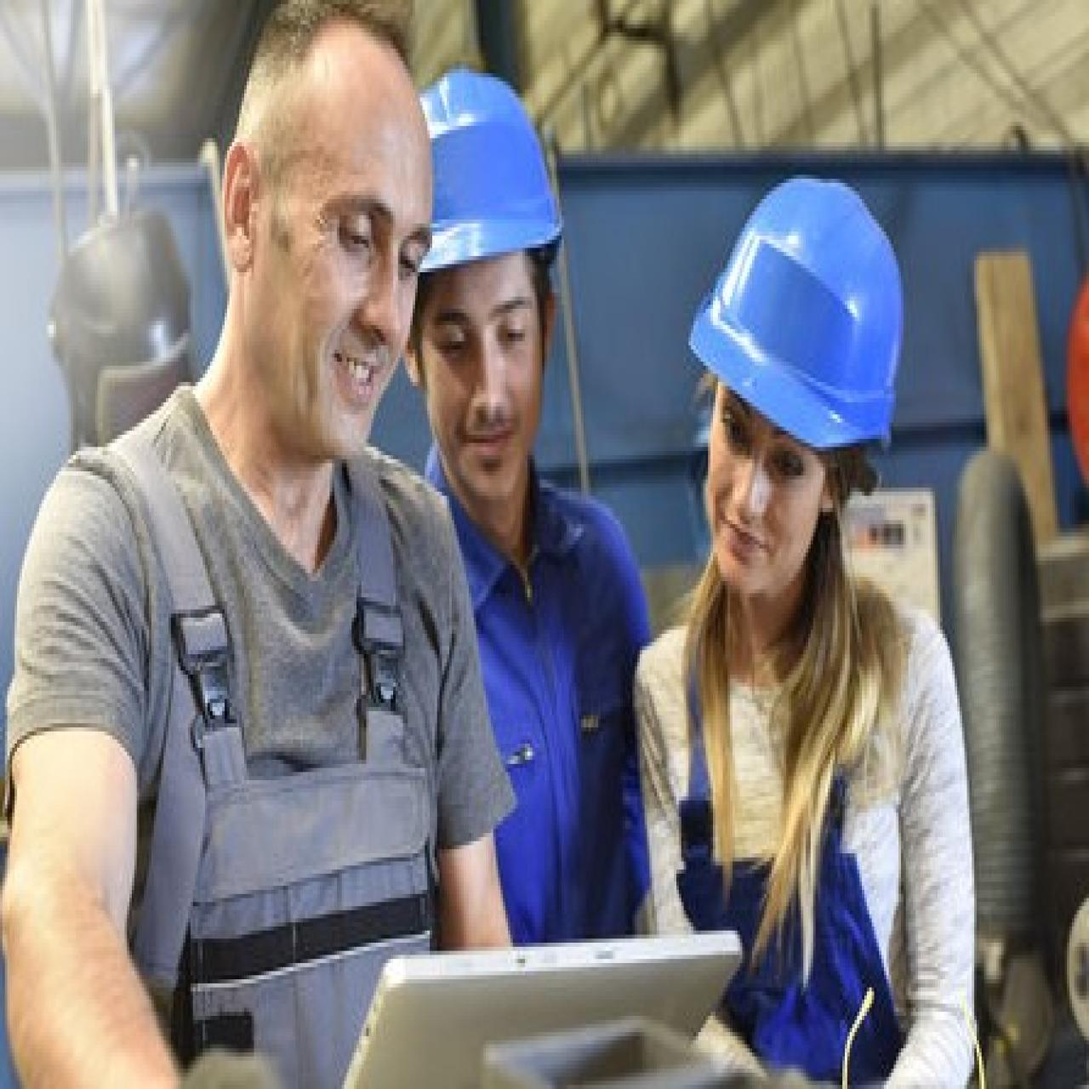NO_Safety_Vest: (91, 407, 436, 1089), (668, 600, 927, 1089), (455, 488, 623, 947)
Person: (18, 0, 528, 1089), (629, 117, 989, 1089), (371, 40, 680, 1010)
